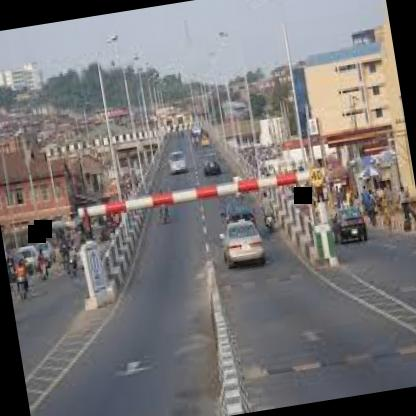car: (214, 211, 268, 280), (327, 185, 373, 256), (197, 142, 226, 182), (161, 146, 190, 180)
